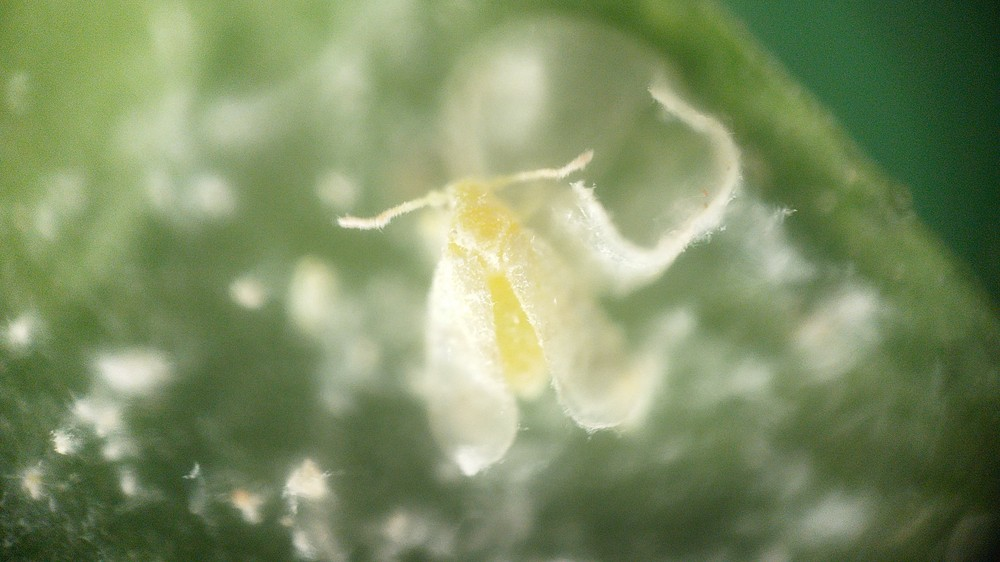Mosca Blanca: (310, 141, 700, 493)
